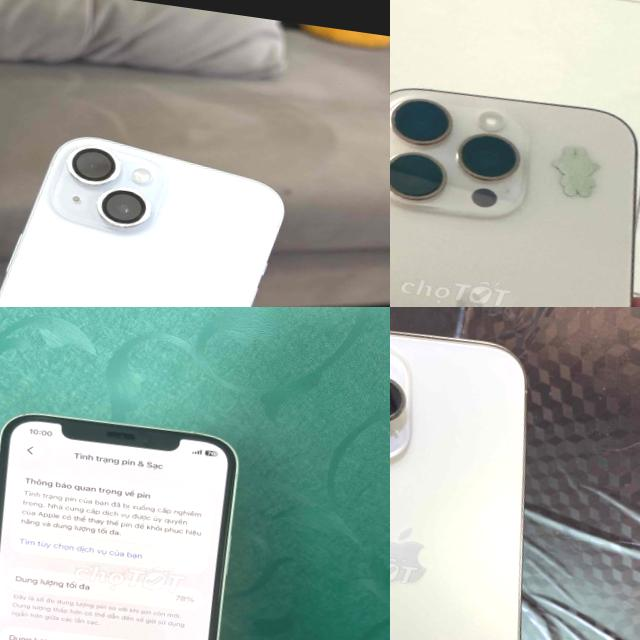gen_12_13: (0, 399, 260, 640)
gen_14: (390, 307, 582, 640)
gen_15: (0, 104, 302, 307)
gen_16: (390, 88, 637, 307)
